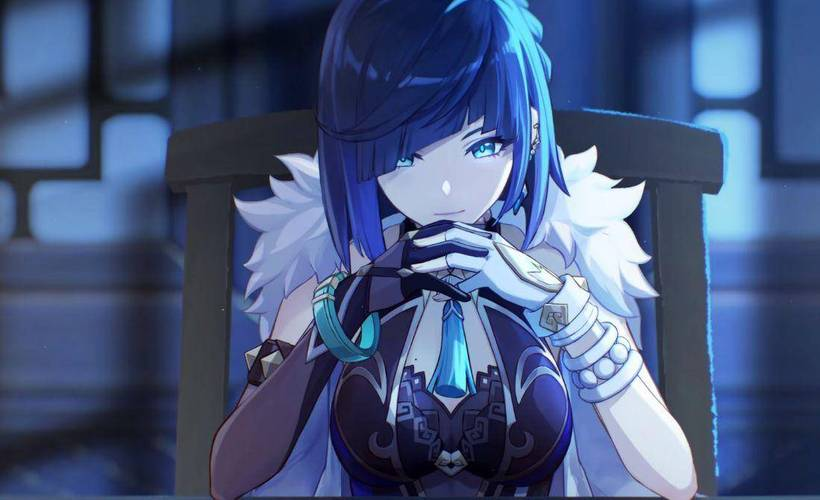夜兰: (210, 2, 699, 500)
